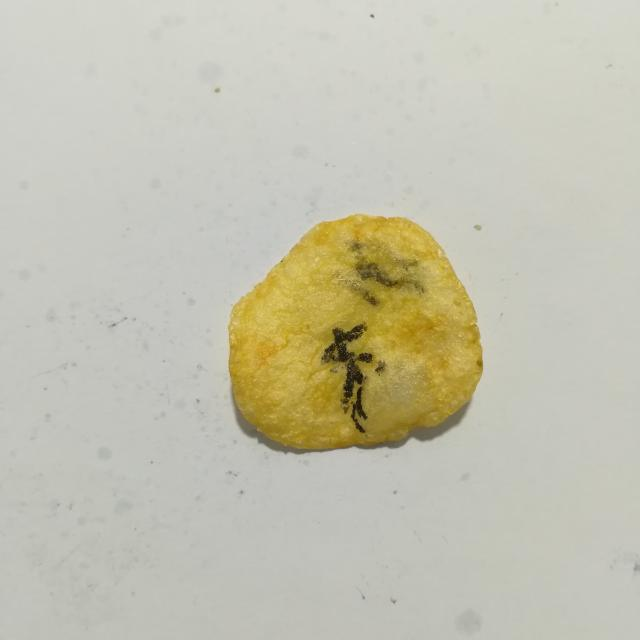chip: (229, 215, 483, 449)
damaged: (321, 323, 373, 433), (375, 361, 386, 373), (331, 367, 337, 372)
semi-damaged: (332, 240, 424, 306)
